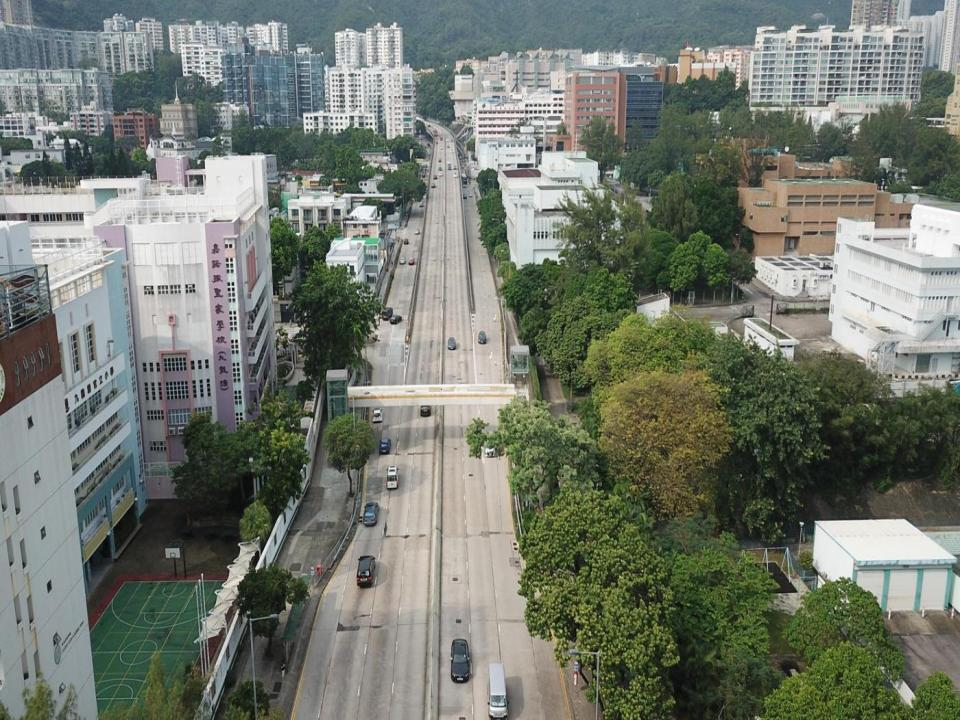bus: (462, 174, 467, 187), (432, 128, 438, 137)
car: (450, 636, 472, 684), (356, 556, 376, 584), (386, 462, 399, 490), (363, 502, 378, 526), (485, 428, 496, 458), (420, 392, 431, 417), (379, 435, 391, 455), (477, 329, 487, 345), (391, 314, 404, 324), (372, 408, 380, 424), (448, 336, 456, 351), (408, 256, 413, 265), (403, 237, 408, 245), (464, 193, 468, 201), (430, 183, 436, 188), (447, 163, 451, 170), (400, 257, 404, 263), (461, 164, 465, 170), (450, 147, 453, 154), (468, 192, 472, 197), (439, 171, 443, 176), (452, 173, 456, 178), (416, 228, 419, 234), (440, 144, 443, 150), (434, 174, 438, 178), (452, 164, 456, 168), (438, 157, 442, 161), (436, 139, 439, 144), (429, 123, 432, 128), (439, 166, 441, 173), (447, 160, 451, 163), (440, 136, 444, 139), (460, 153, 462, 159), (446, 136, 448, 141), (447, 144, 450, 147), (451, 139, 453, 142)
van: (487, 662, 508, 719), (458, 159, 464, 169)
